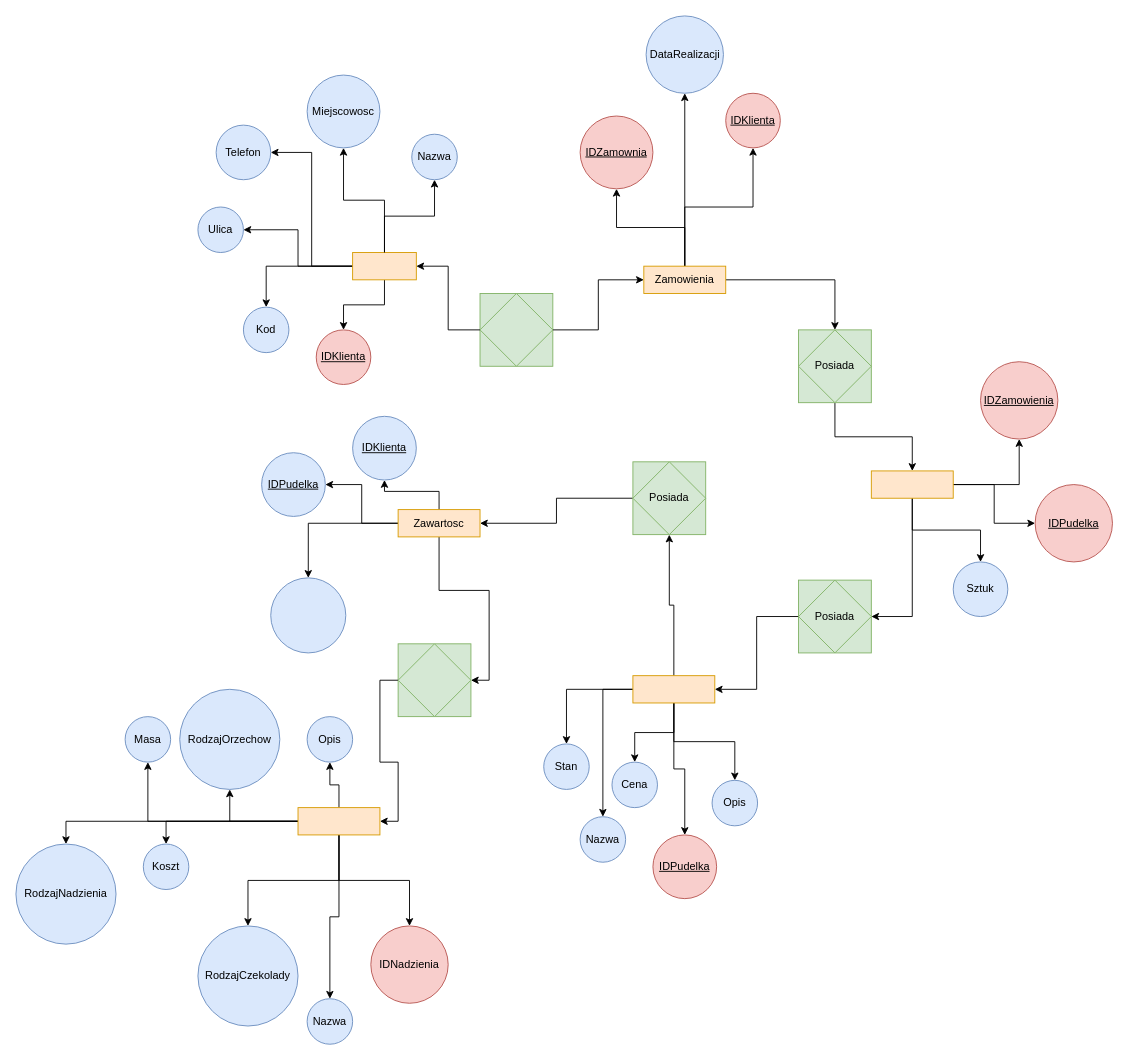
This 1128x1060 diagram has some shape labels left out. The centre of each missing label's shape, as x and y in pixels:
Artykuly: [911,484]
Czekoladki: [338,821]
DataRalizacji: [308,615]
Klient: [384,266]
Odnosza sie do: [434,680]
Pudelka: [673,689]
Tworzy: [516,329]
